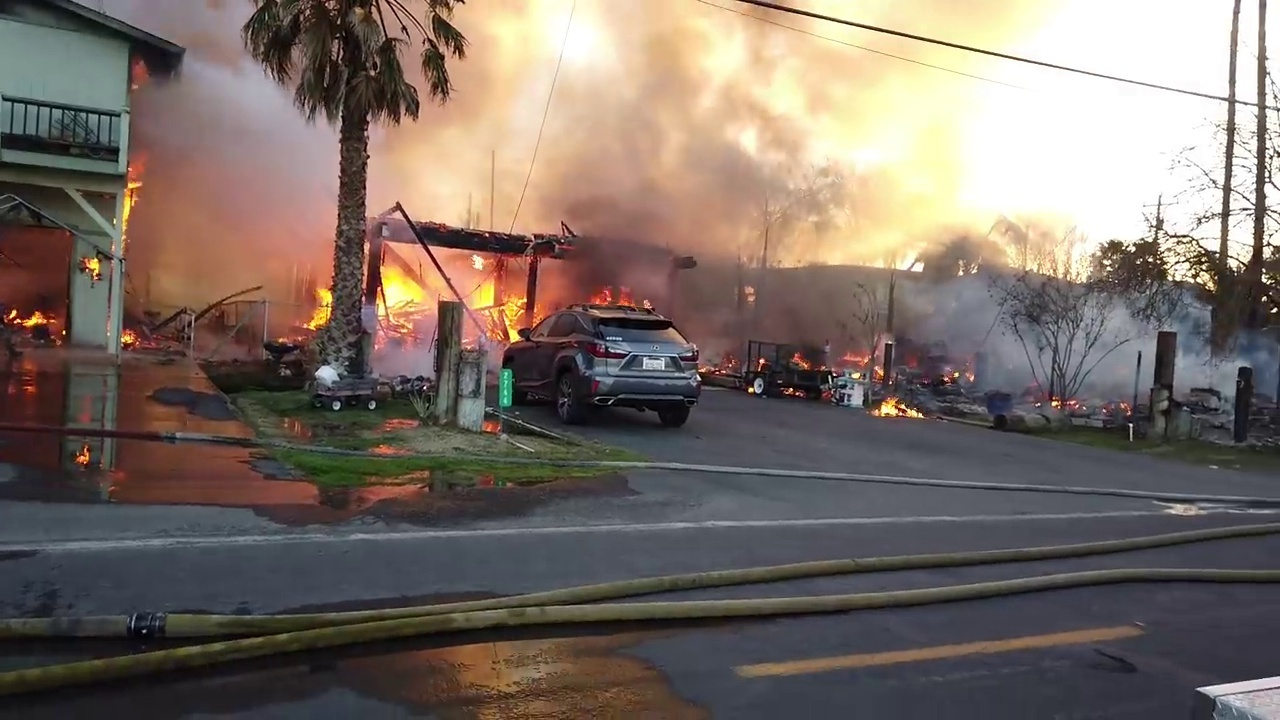fire: (286, 261, 414, 340), (971, 208, 1096, 282), (586, 280, 656, 311), (1, 301, 59, 338), (119, 154, 144, 232), (868, 395, 927, 415), (1034, 393, 1089, 405), (895, 244, 922, 268), (82, 255, 100, 279), (790, 350, 812, 367), (957, 255, 974, 275), (938, 370, 962, 381)
smoke: (544, 2, 893, 266), (141, 60, 338, 281), (373, 5, 542, 235), (922, 282, 1198, 389), (900, 5, 1016, 210), (1199, 253, 1280, 377), (146, 6, 246, 59)
